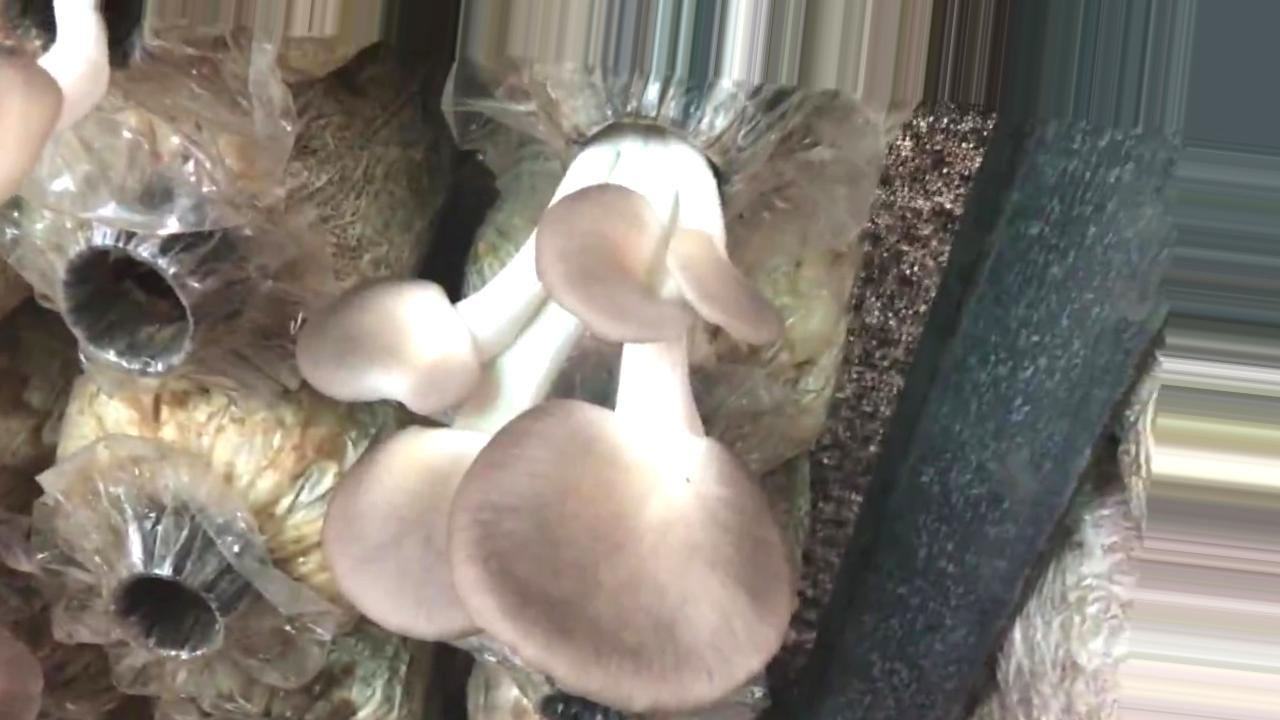nam: (296, 62, 795, 714)
